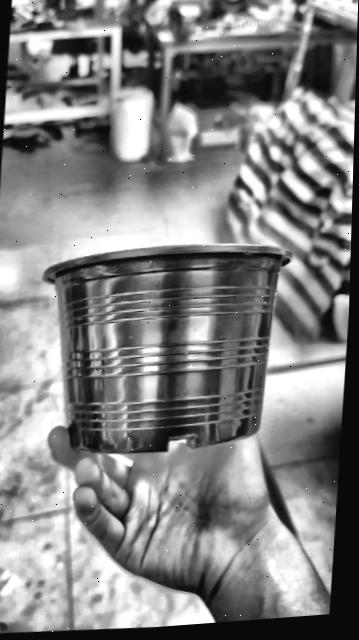pot: (44, 243, 290, 452)
